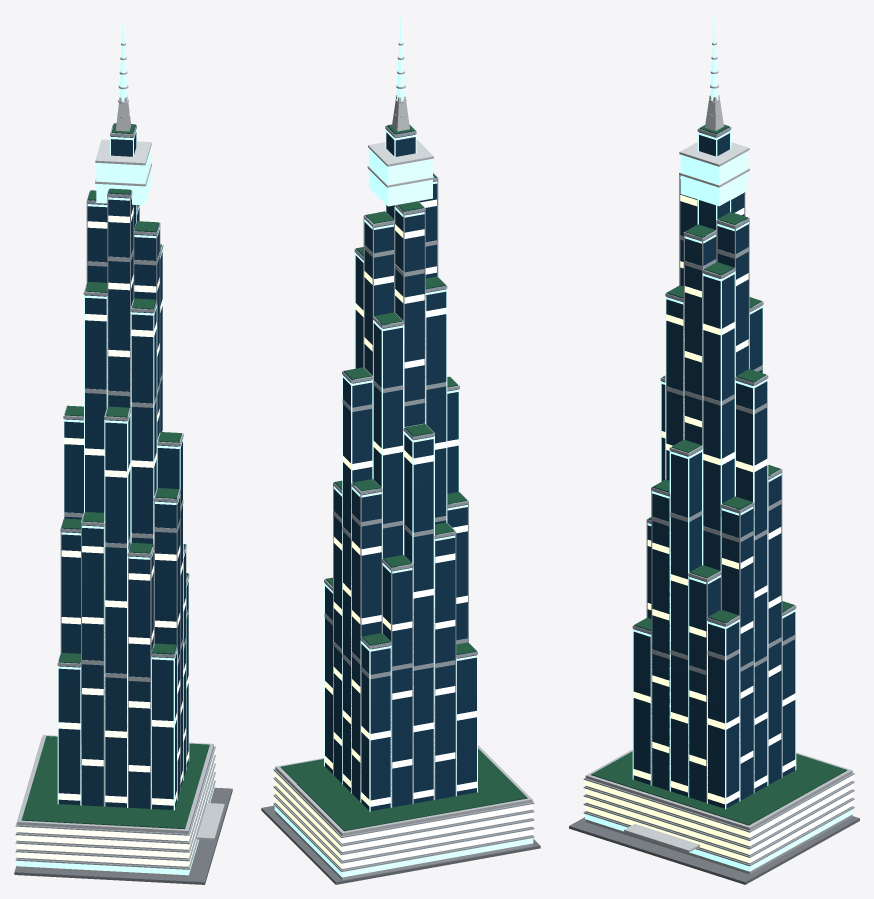
The model's file is landmark_81.glb.
3 renders of one model, left to right at view 1: azimuth 30°, elevation 25°; view 2: azimuth 150°, elevation 25°; view 3: azimuth 270°, elevation 25°, orthographic.
Parts seen in each view (by area): view 1: landmark_81; view 2: landmark_81; view 3: landmark_81.
Part boxes in pixels (x1,y1,x2,y2): landmark_81: [14, 14, 232, 884]; landmark_81: [261, 14, 540, 884]; landmark_81: [569, 14, 859, 884].
Bounding box in the file's own units: 147 × 461 × 150.
